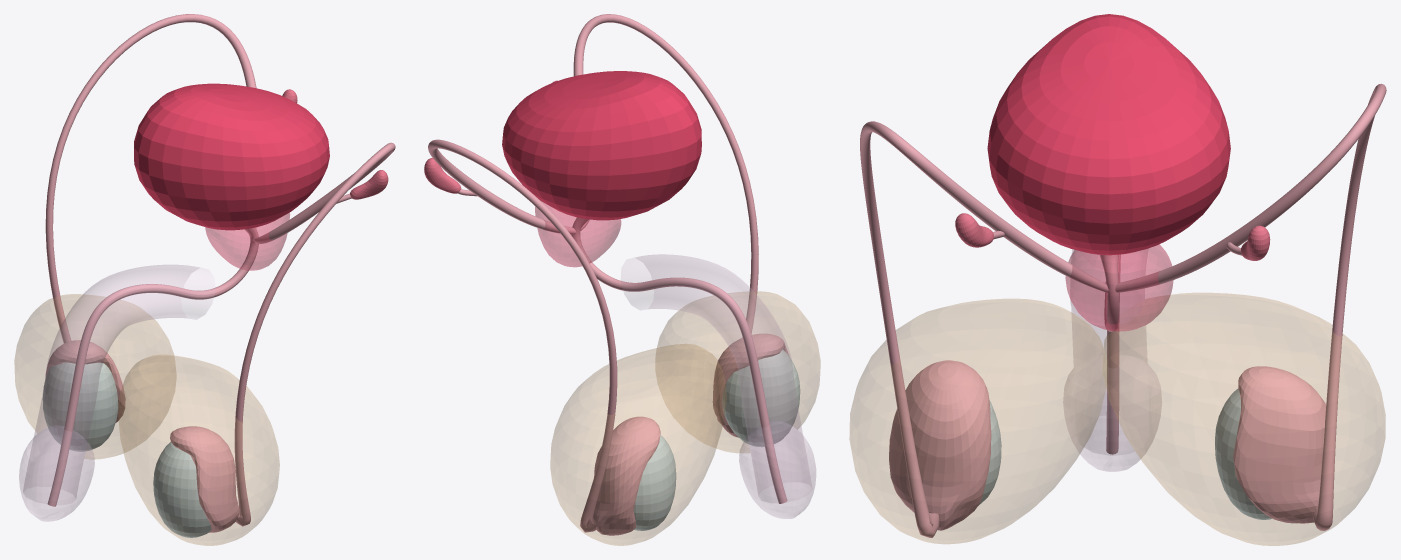
File: ARM2.glb
3 views of the same model, side by side, from view 1: azimuth 30°, elevation 25°; view 2: azimuth 150°, elevation 25°; view 3: azimuth 270°, elevation 25° (orthographic). The views are drawn at different scales.
Parts seen in each view (by area): view 1: Sphere, Vejiga, NurbsPath.004, Sphere.005, Testiculo 1.002, Testiculo 1.001, NurbsPath, TT2, Sphere.004, NurbsPath.002, Testiculo 1, Prostata (+2 smaller); view 2: Sphere.005, Vejiga, NurbsPath.004, Sphere, TT2, Testiculo 1.002, Sphere.002, Testiculo 1, NurbsPath, NurbsPath.002, Prostata, Testiculo 1.001 (+2 smaller); view 3: Sphere.005, Sphere, Vejiga, Sphere.004, Sphere.002, TT2, NurbsPath, Prostata, NurbsPath.004, Testiculo 1.002, NurbsPath.002, Testiculo 1.001 (+3 smaller).
Part boxes in pixels (x1,y1,x2,y2): Sphere: (118, 355, 279, 545); Vejiga: (134, 83, 329, 230); NurbsPath.004: (23, 265, 215, 504); Sphere.005: (14, 294, 176, 459); Testiculo 1.002: (19, 425, 94, 521); Testiculo 1.001: (42, 362, 118, 451); NurbsPath: (234, 142, 395, 526); TT2: (45, 14, 256, 343); Sphere.004: (170, 426, 239, 532); NurbsPath.002: (47, 227, 258, 506); Testiculo 1: (153, 442, 211, 537); Prostata: (205, 212, 289, 270); Sphere.005: (550, 344, 726, 545); Vejiga: (502, 71, 701, 220); NurbsPath.004: (621, 254, 812, 502); Sphere: (655, 291, 820, 452); TT2: (428, 139, 617, 532); Testiculo 1.002: (739, 421, 815, 518); Sphere.002: (592, 416, 660, 535); Testiculo 1: (722, 349, 800, 446); NurbsPath: (573, 14, 758, 422); NurbsPath.002: (571, 217, 787, 503); Prostata: (535, 201, 621, 267); Testiculo 1.001: (633, 435, 676, 530); Sphere.005: (1102, 293, 1385, 545); Sphere: (849, 299, 1107, 543); Vejiga: (987, 14, 1230, 255); Sphere.004: (889, 360, 991, 530); Sphere.002: (1233, 366, 1326, 523); TT2: (1115, 83, 1386, 530); NurbsPath: (860, 121, 1108, 537); Prostata: (1065, 244, 1173, 331); NurbsPath.004: (1070, 249, 1147, 455); Testiculo 1.002: (1063, 364, 1161, 471); NurbsPath.002: (1099, 255, 1120, 454); Testiculo 1.001: (1215, 388, 1272, 519).
Bounding box in the file's own units: 4.16 × 4.82 × 4.34.
